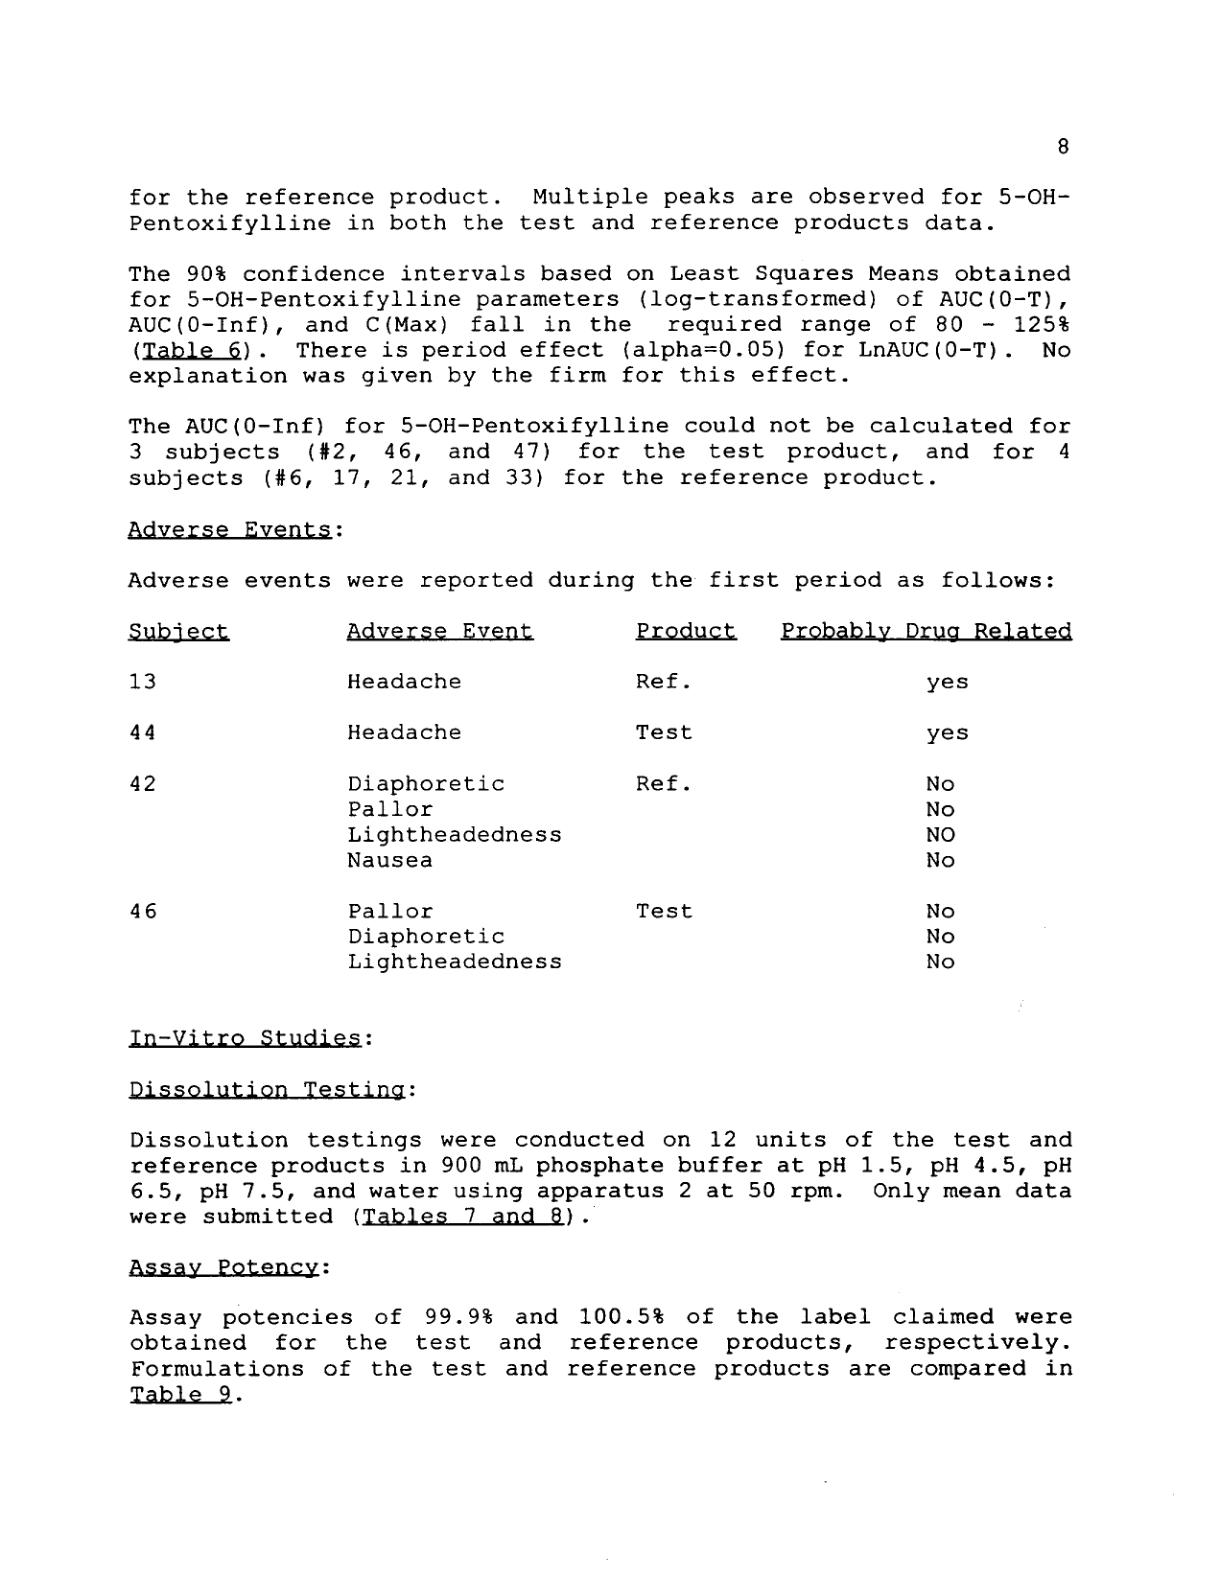nolines: (125, 619, 1074, 973)
